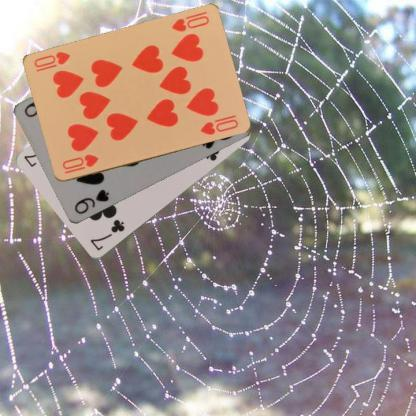10h: (59, 152, 100, 176), (169, 13, 210, 34)
7c: (87, 218, 127, 252)
9s: (72, 187, 110, 216)
